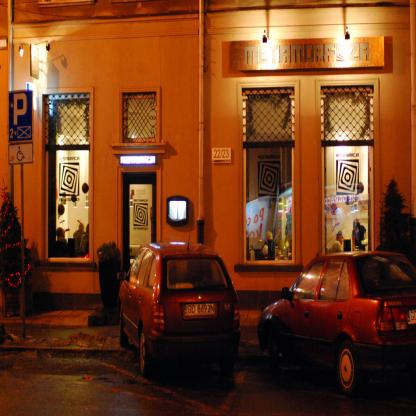Car: (257, 225, 416, 400), (120, 243, 242, 384)
